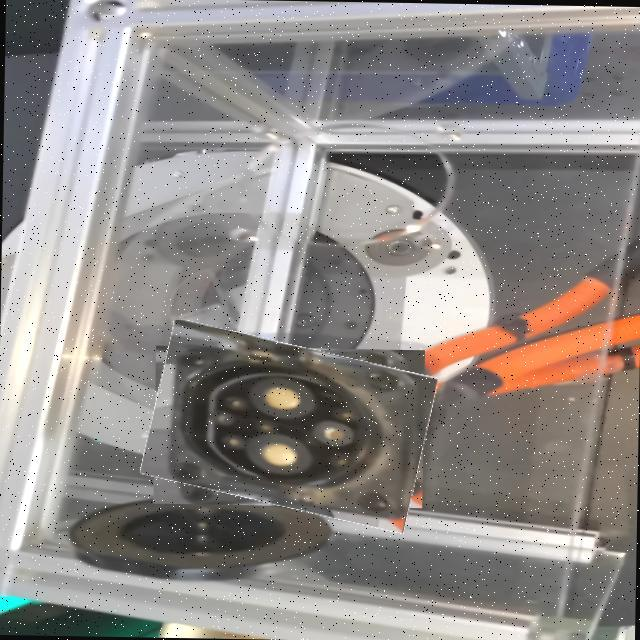GB-T: (170, 319, 402, 513)
